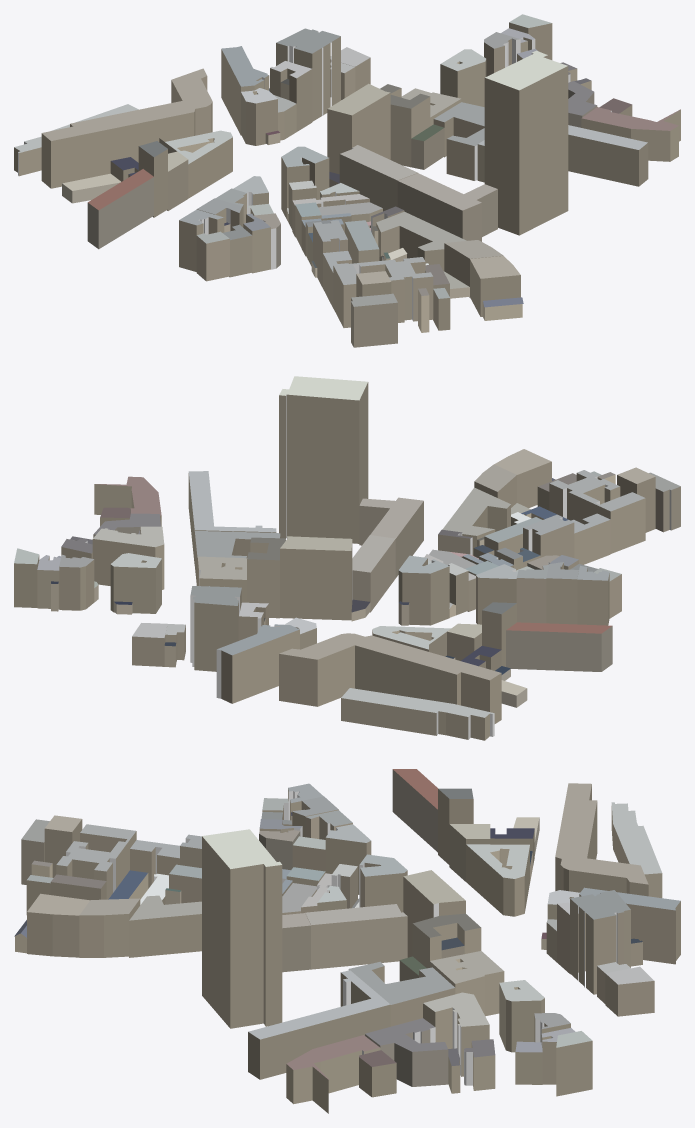
3 views of the same model, one above another, from view 1: azimuth 30°, elevation 25°; view 2: azimuth 150°, elevation 25°; view 3: azimuth 270°, elevation 25° (orthographic). The views are drawn at different scales.
Parts seen in each view (by area): view 1: tuile; view 2: tuile; view 3: tuile.
Part boxes in pixels (bbox=[...]): tuile: bbox=[14, 14, 680, 347]; tuile: bbox=[14, 376, 680, 740]; tuile: bbox=[14, 769, 680, 1113].
Size of the model in its own units: 286 by 72.77 by 272.
